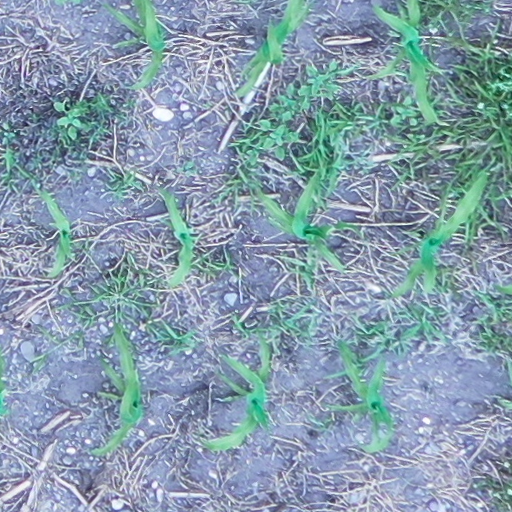planta: (388, 169, 487, 299), (253, 173, 362, 274), (198, 328, 271, 450), (328, 338, 394, 452), (88, 322, 143, 456), (30, 176, 77, 279), (154, 183, 193, 288)
